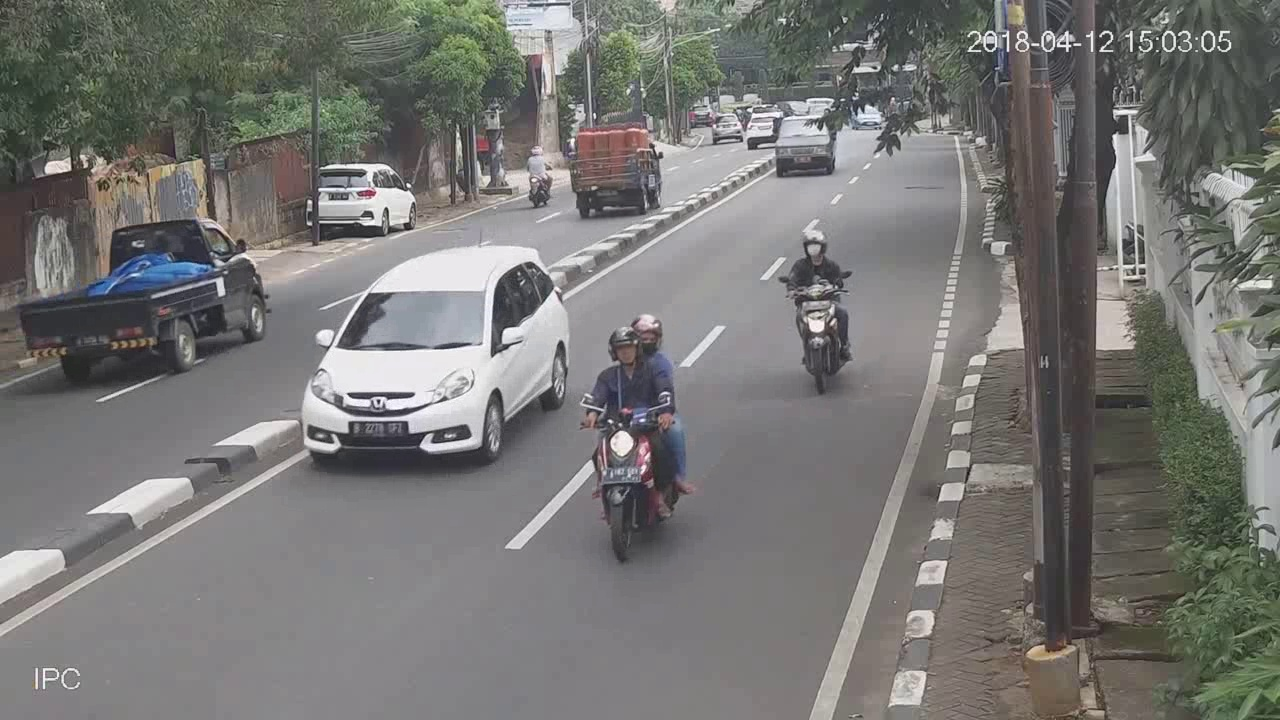car: (301, 244, 571, 463), (306, 162, 419, 238), (775, 115, 837, 179)
motorcycle: (581, 313, 699, 567), (776, 226, 857, 395), (521, 139, 556, 209)
truck: (16, 215, 275, 384), (567, 125, 664, 216)
